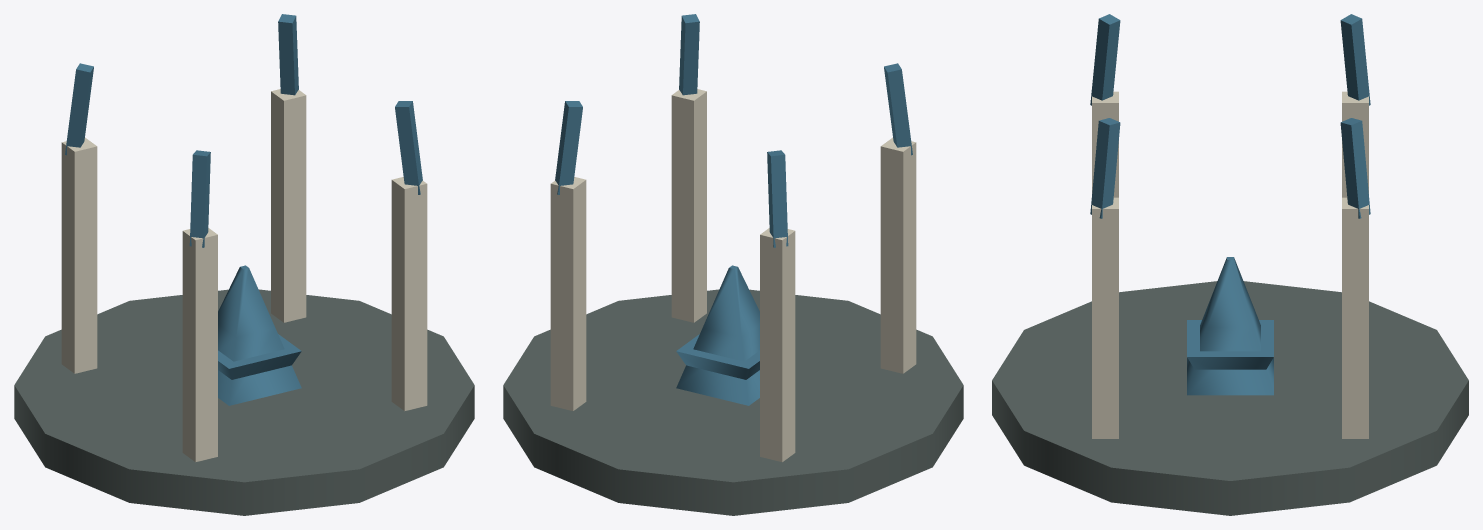
Rendered from hu_shan_jian_zhen.glb.
The picture shows the model from 3 angles, left to right: view 1: azimuth 30°, elevation 25°; view 2: azimuth 150°, elevation 25°; view 3: azimuth 270°, elevation 25°; orthographic projection. The views are drawn at different scales.
Visible parts, largest first — view 1: _MeshInstance3D_106, _MeshInstance3D_111, _MeshInstance3D_107, _MeshInstance3D_113, _MeshInstance3D_109, _MeshInstance3D_115, _MeshInstance3D_110, _MeshInstance3D_108, _MeshInstance3D_116, _MeshInstance3D_112, _MeshInstance3D_114; view 2: _MeshInstance3D_106, _MeshInstance3D_109, _MeshInstance3D_113, _MeshInstance3D_107, _MeshInstance3D_111, _MeshInstance3D_115, _MeshInstance3D_112, _MeshInstance3D_114, _MeshInstance3D_116, _MeshInstance3D_110, _MeshInstance3D_108; view 3: _MeshInstance3D_106, _MeshInstance3D_115, _MeshInstance3D_107, _MeshInstance3D_113, _MeshInstance3D_116, _MeshInstance3D_108, _MeshInstance3D_114, _MeshInstance3D_110, _MeshInstance3D_112, _MeshInstance3D_109, _MeshInstance3D_111.
Part boxes in pixels (x1=…): _MeshInstance3D_106: x1=14, y1=289, x2=474, y2=515; _MeshInstance3D_111: x1=61, y1=137, x2=97, y2=373; _MeshInstance3D_107: x1=391, y1=177, x2=427, y2=410; _MeshInstance3D_113: x1=271, y1=89, x2=306, y2=322; _MeshInstance3D_109: x1=182, y1=228, x2=217, y2=462; _MeshInstance3D_115: x1=218, y1=265, x2=301, y2=405; _MeshInstance3D_110: x1=189, y1=150, x2=210, y2=247; _MeshInstance3D_108: x1=395, y1=101, x2=422, y2=194; _MeshInstance3D_116: x1=218, y1=334, x2=301, y2=379; _MeshInstance3D_112: x1=65, y1=63, x2=93, y2=155; _MeshInstance3D_114: x1=278, y1=14, x2=298, y2=95; _MeshInstance3D_106: x1=503, y1=289, x2=963, y2=515; _MeshInstance3D_109: x1=880, y1=137, x2=916, y2=373; _MeshInstance3D_113: x1=550, y1=177, x2=586, y2=410; _MeshInstance3D_107: x1=671, y1=89, x2=706, y2=322; _MeshInstance3D_111: x1=760, y1=228, x2=795, y2=462; _MeshInstance3D_115: x1=676, y1=265, x2=759, y2=405; _MeshInstance3D_112: x1=767, y1=150, x2=788, y2=247; _MeshInstance3D_114: x1=555, y1=101, x2=582, y2=194; _MeshInstance3D_116: x1=676, y1=334, x2=759, y2=379; _MeshInstance3D_110: x1=884, y1=63, x2=912, y2=155; _MeshInstance3D_108: x1=679, y1=14, x2=699, y2=95; _MeshInstance3D_106: x1=992, y1=281, x2=1468, y2=515; _MeshInstance3D_115: x1=1187, y1=257, x2=1273, y2=395; _MeshInstance3D_107: x1=1092, y1=197, x2=1118, y2=438; _MeshInstance3D_113: x1=1342, y1=197, x2=1368, y2=438; _MeshInstance3D_116: x1=1187, y1=320, x2=1273, y2=369; _MeshInstance3D_108: x1=1090, y1=118, x2=1120, y2=218; _MeshInstance3D_114: x1=1340, y1=118, x2=1370, y2=218; _MeshInstance3D_110: x1=1090, y1=14, x2=1120, y2=105; _MeshInstance3D_112: x1=1340, y1=14, x2=1370, y2=105; _MeshInstance3D_109: x1=1092, y1=91, x2=1118, y2=197; _MeshInstance3D_111: x1=1342, y1=91, x2=1368, y2=197.
Bounding box in the file's own units: 1.24 × 1.01 × 1.24.
